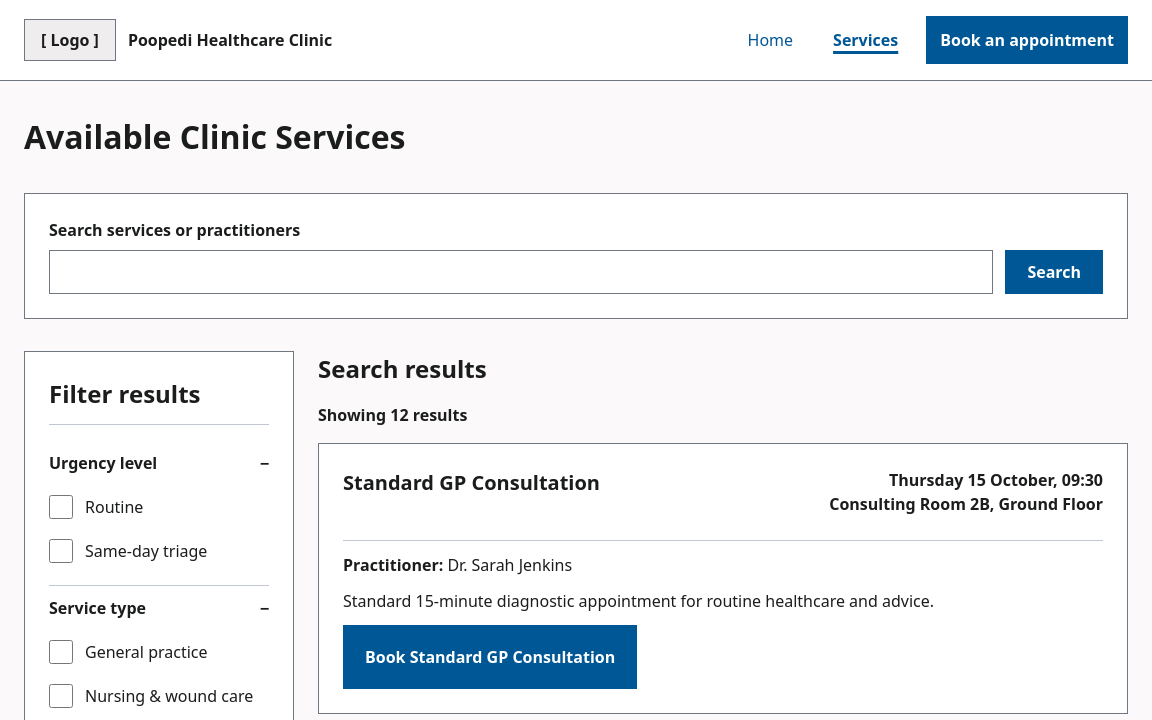
Scenario: ServicesPage › shows an empty state and recovers with keyboard focus on the search box
This screenshot has width=1152, height=720.
In the search field labelled "Search services or practitioners": point(521, 272) [49, 250, 993, 294], type "zzzz"
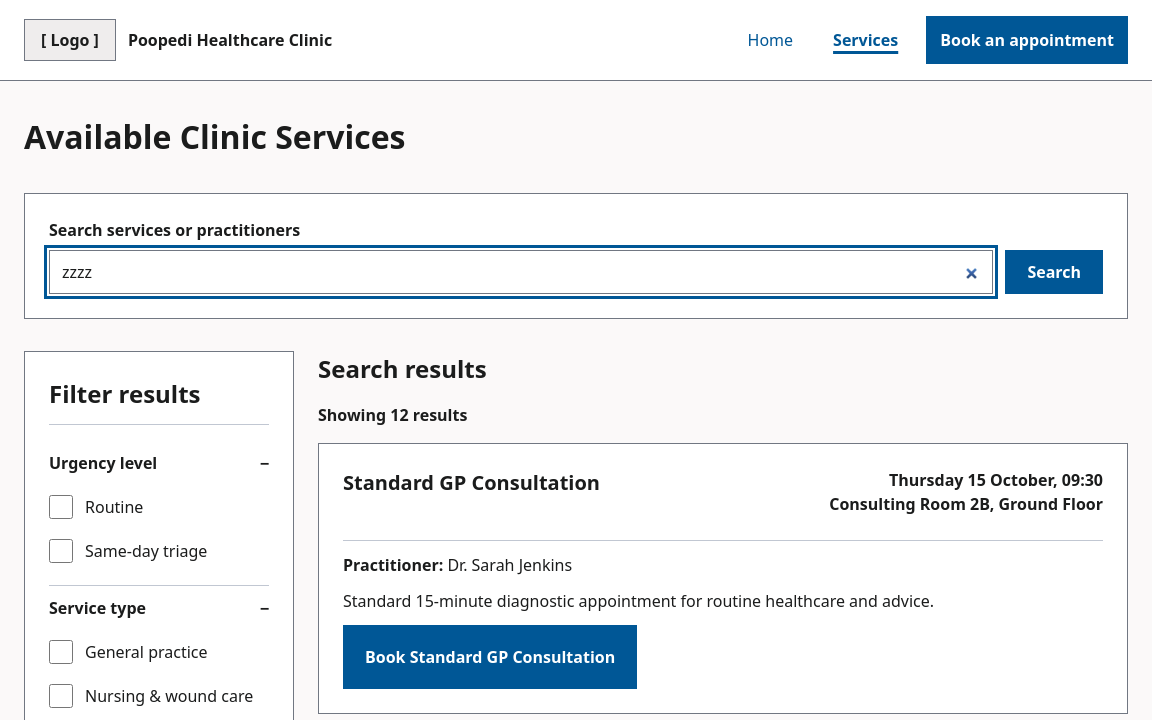
Click the button "Search": point(1054, 272) [1005, 250, 1103, 294]
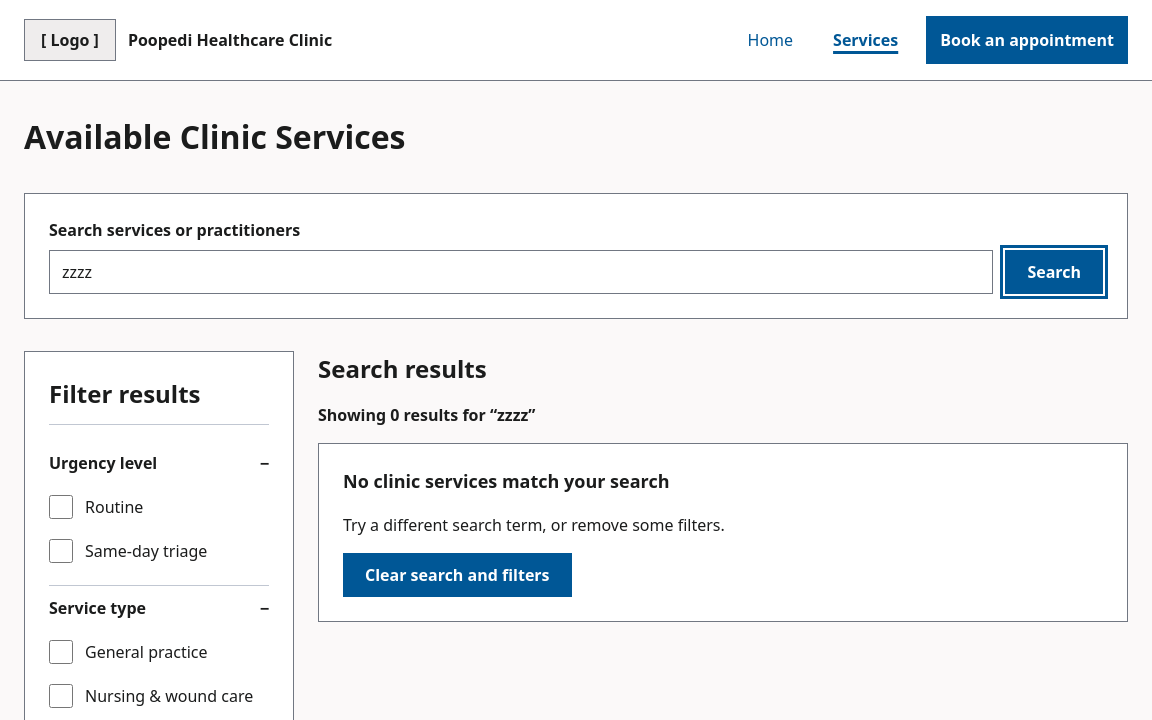
Now the text "Showing 0 results for “zzzz”" is shown, box [318, 404, 535, 426]
Now the heading "No clinic services match your search" is shown, box [343, 469, 670, 493]
Click the button "Clear search and filters": point(457, 575) [343, 553, 572, 597]
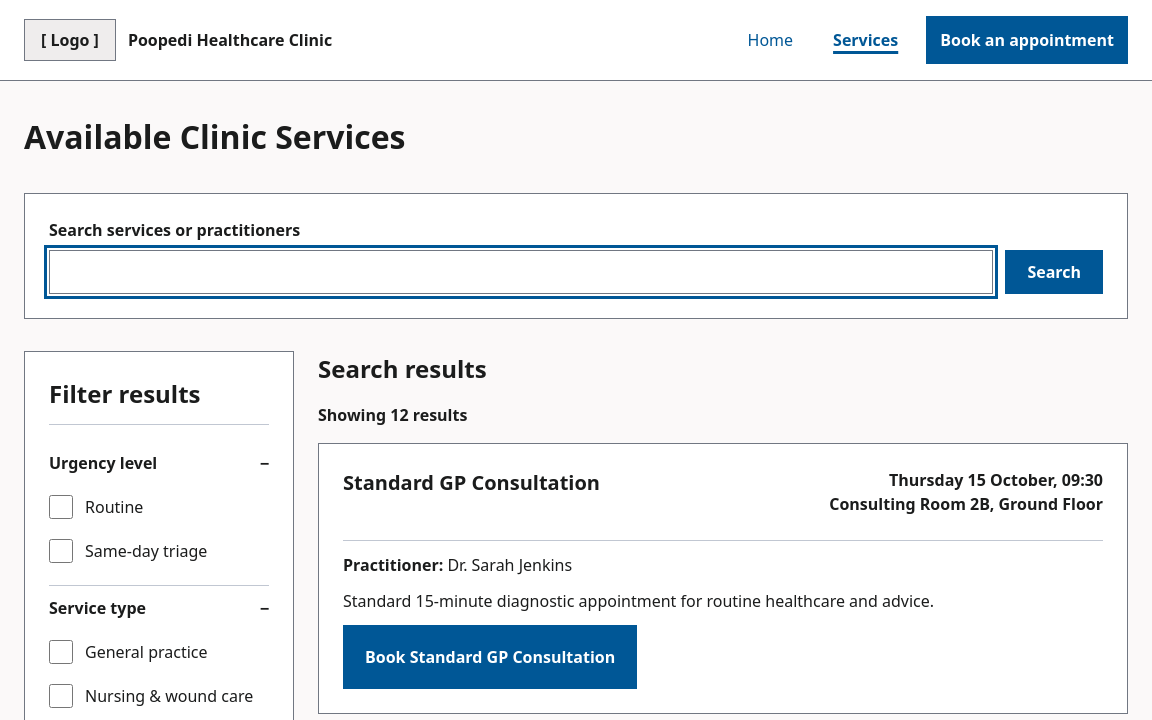
Now the text "Showing 12 results" is shown, box [318, 404, 467, 426]
Now the search field labelled "Search services or practitioners" is empty, box [49, 250, 993, 294]
